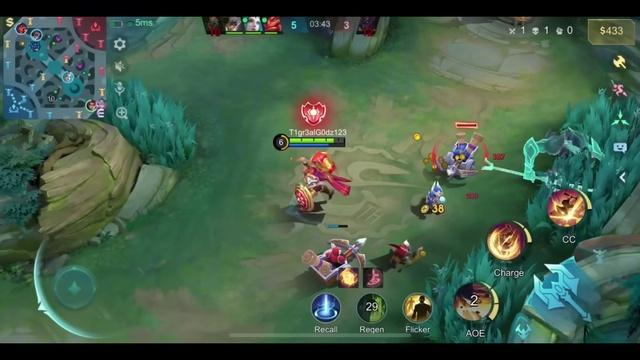Adc_Aliado: (16, 23, 26, 34)
Arbusto: (526, 90, 639, 250), (424, 242, 537, 340), (101, 79, 195, 167)
EXP_Lane: (95, 106, 105, 118)
Esbirro_Aliado: (302, 238, 366, 280)
Esbirro_Enemigo: (433, 134, 482, 178)
Exp_Aliado: (85, 98, 96, 111)
Exp_Enemigo: (95, 97, 107, 111)
Gold_Lane: (5, 16, 17, 28)
HP_Heroe_Principal: (289, 137, 345, 143)
Hechizo_Batalla: (403, 293, 432, 323)
Jungla_Aliado: (30, 29, 42, 40)
Mana: (290, 143, 347, 147)
Mid_Aliado: (61, 71, 76, 85)
Minimapa: (4, 15, 109, 119)
Skill2: (487, 221, 531, 260)
Skill3: (547, 189, 591, 227)
Suyou: (481, 128, 603, 182)
Tigreal: (295, 152, 349, 211)
